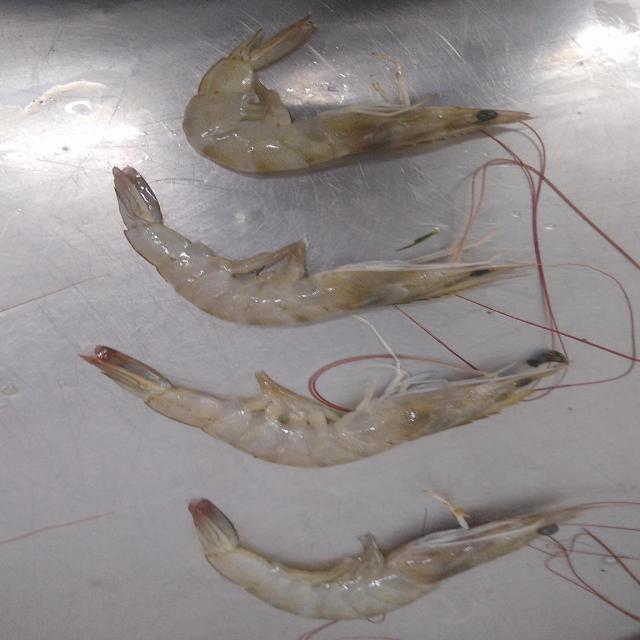shrimp: (113, 168, 524, 326), (82, 346, 567, 468), (182, 18, 531, 172), (189, 498, 627, 620)
